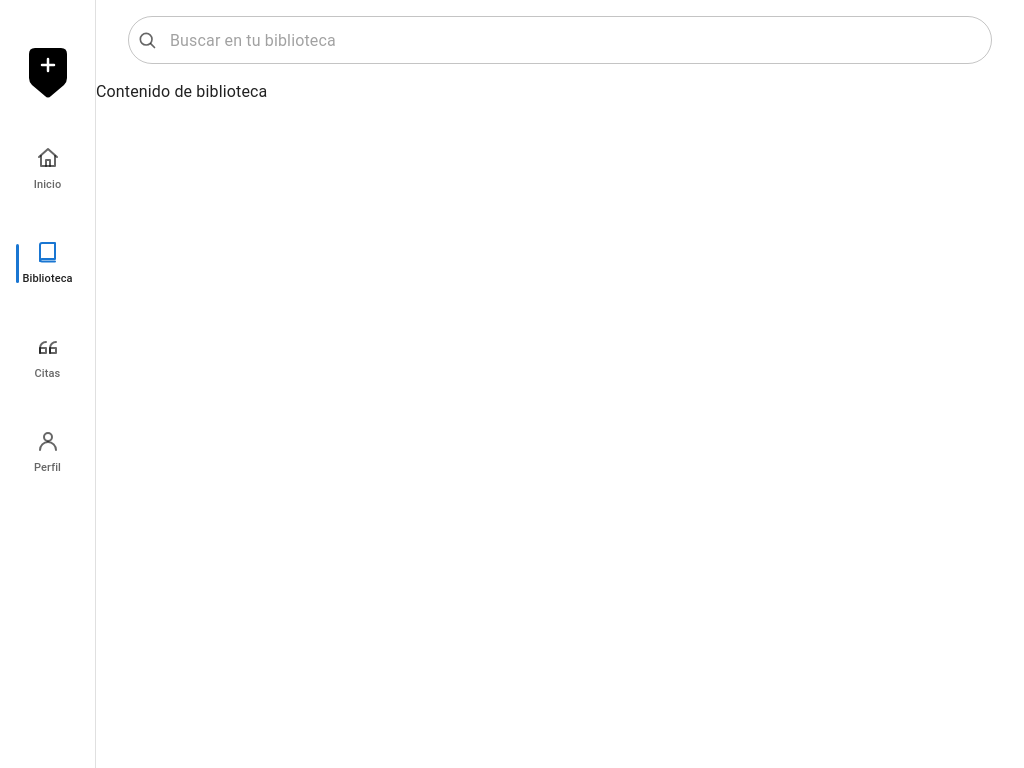
Test: Given the add book flow › When the provider gives no publisher › Then it asks for it and does not save without it
Step 1. Click the button named "Añadir libro" → (48, 73), box [4, 48, 90, 98]
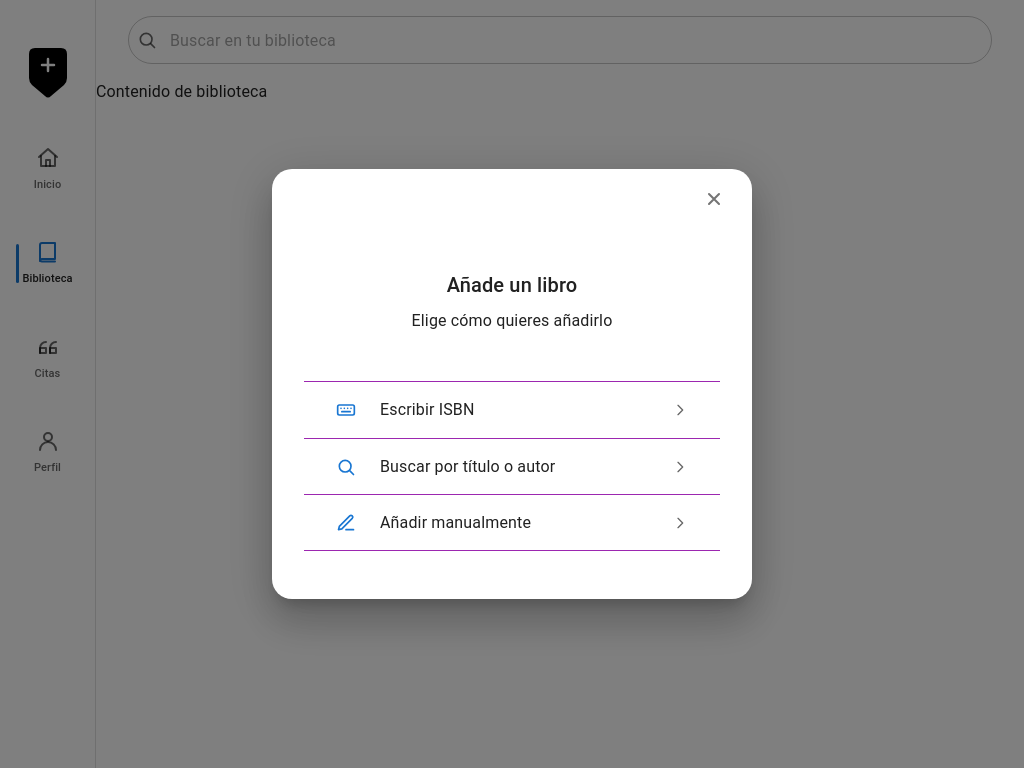
Step 2. Click the button "Escribir ISBN" → (427, 410), box [304, 382, 720, 438]
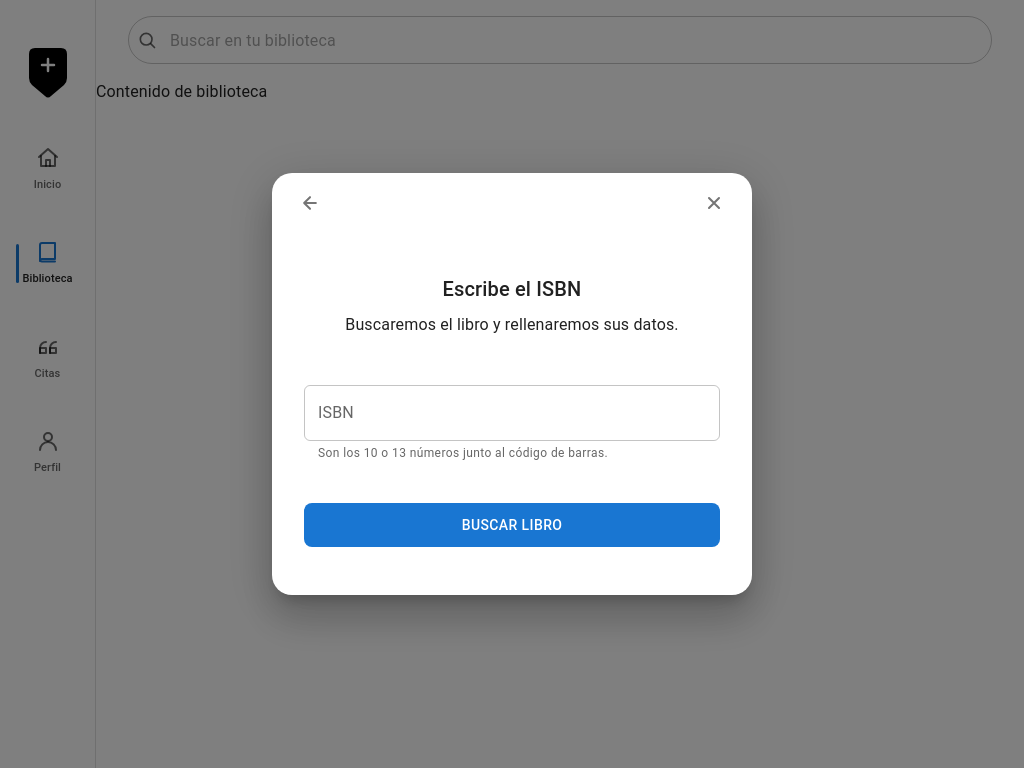
Step 3. Type "9788437604947" into the field labelled "ISBN" → (512, 412), box [304, 384, 720, 440]
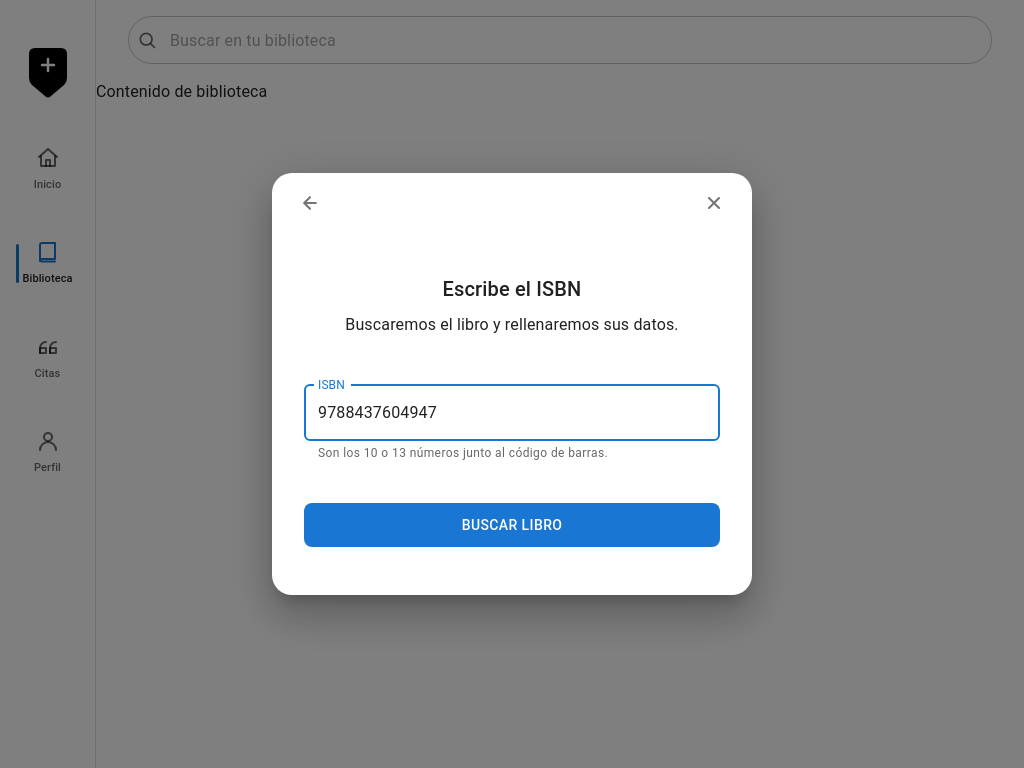
Step 4. Click the button "Buscar libro" → (512, 526), box [304, 504, 720, 548]
(page scrolled)
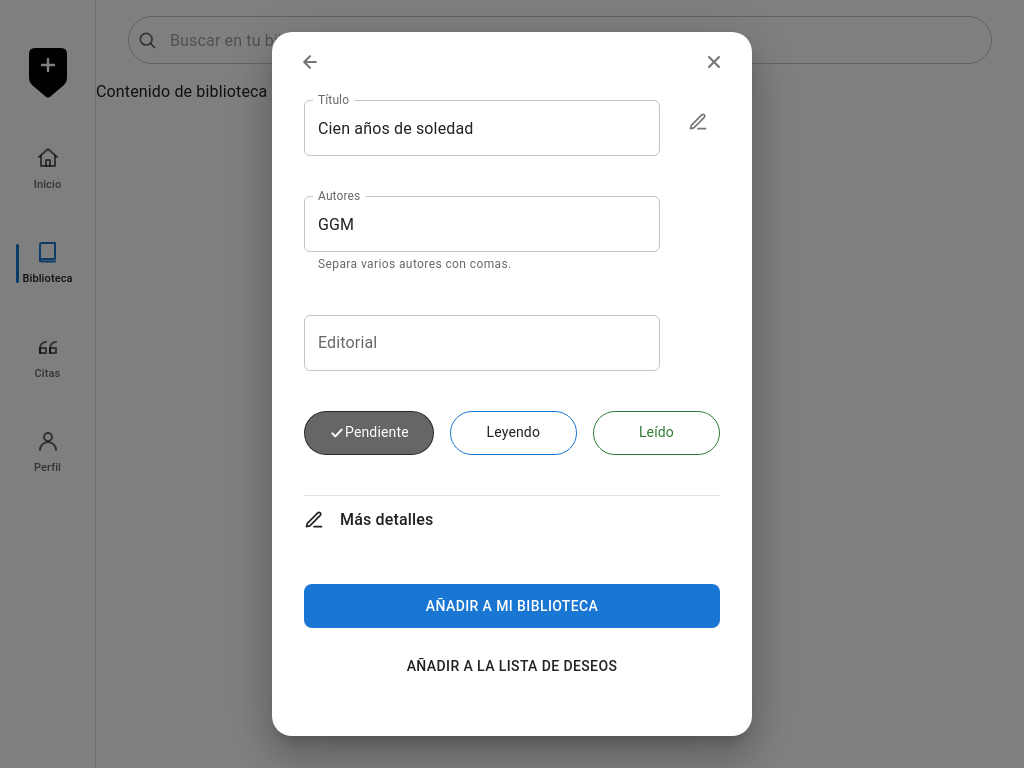
Step 5. Click the button "Añadir a mi biblioteca" → (512, 606), box [304, 584, 720, 628]
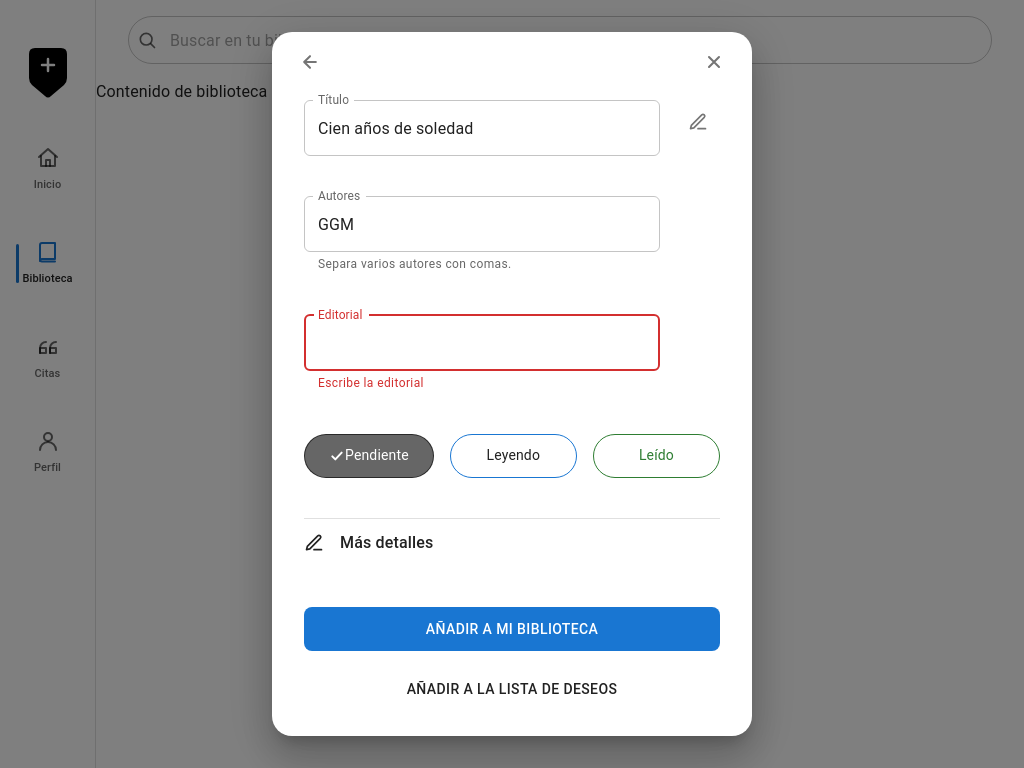
expect the text "Escribe la editorial" is shown: met, box [318, 376, 424, 390]
